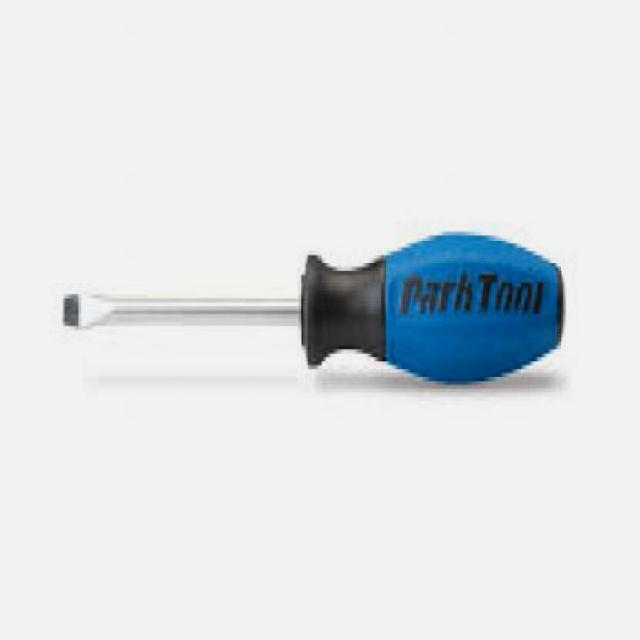screwdriver: (60, 232, 566, 381)
